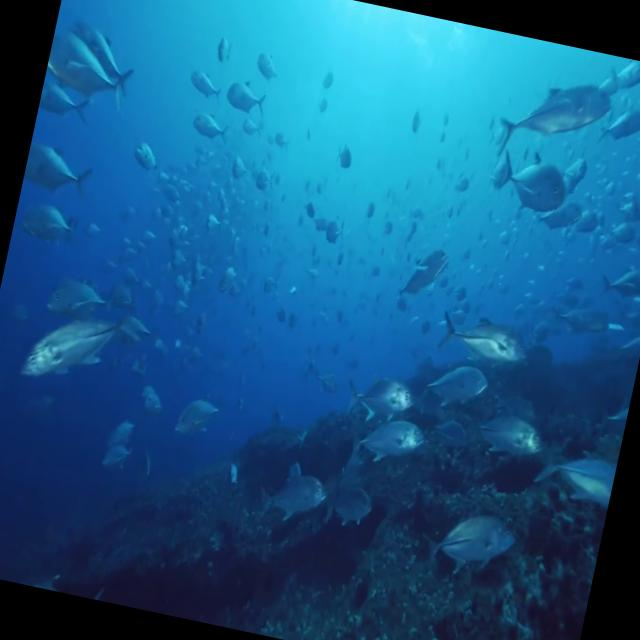fish: (492, 63, 616, 175), (20, 306, 137, 392), (418, 502, 522, 585), (42, 26, 132, 106), (433, 306, 535, 376), (492, 148, 572, 226), (254, 458, 332, 534), (416, 350, 494, 423), (344, 407, 426, 474), (338, 369, 419, 432), (466, 404, 546, 465), (22, 140, 94, 201)
